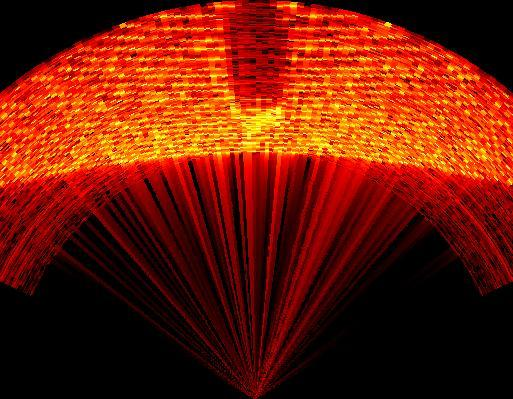box_crate: (222, 1, 286, 109)
